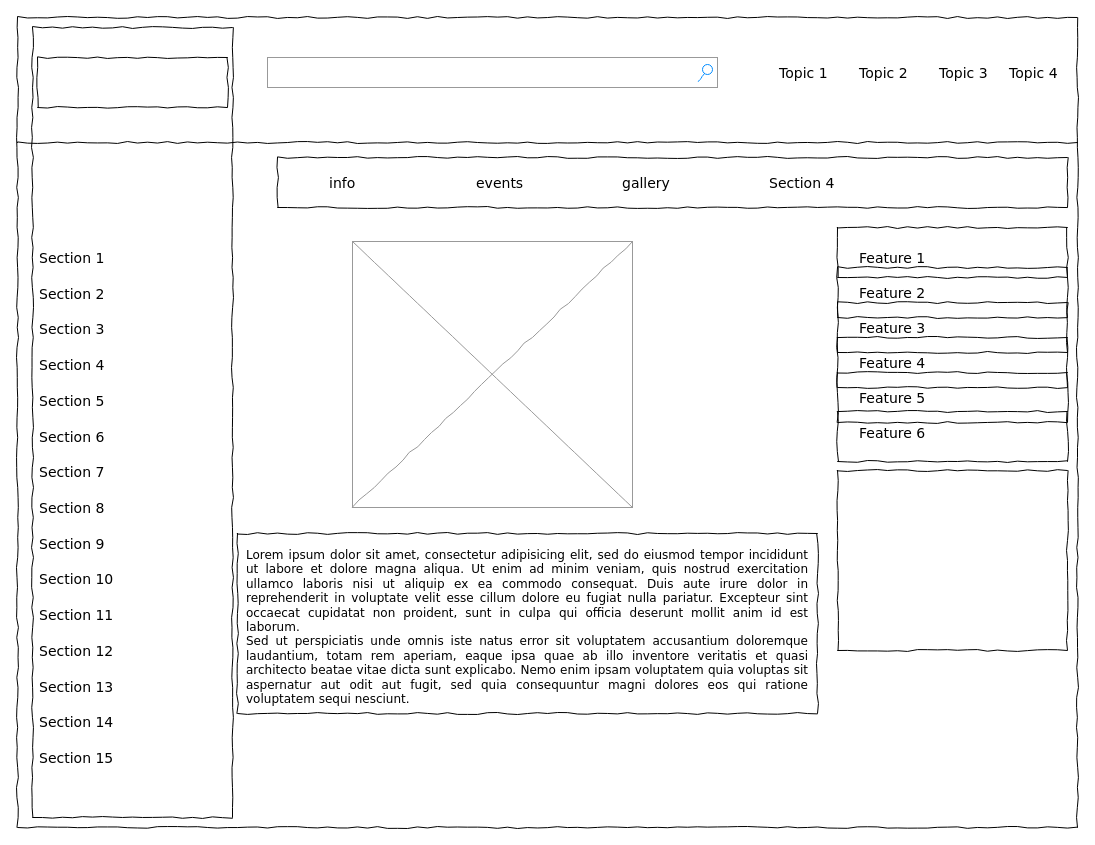
This 1095x845 diagram has some shape labels left out. The shapes that lost their labels are listed below. From the top down, each one's box as (x1, y1, x2, y2) in pixels, then its label:
(36, 56, 228, 108): LOGO
(266, 56, 718, 88): Search
(836, 470, 1068, 650): data artist
